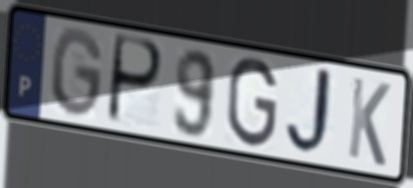9: (171, 47, 219, 140)
G: (50, 25, 107, 122), (225, 54, 280, 149)
J: (283, 65, 340, 160)
K: (345, 73, 393, 171)
P: (104, 31, 166, 129)
